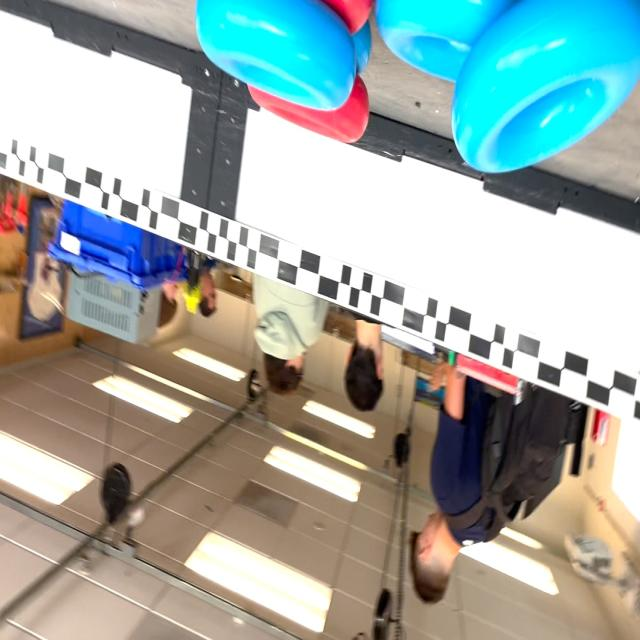Blue-Ring: (452, 0, 640, 173), (196, 0, 356, 110), (376, 1, 514, 82)
Red-Ring: (248, 76, 369, 144)
